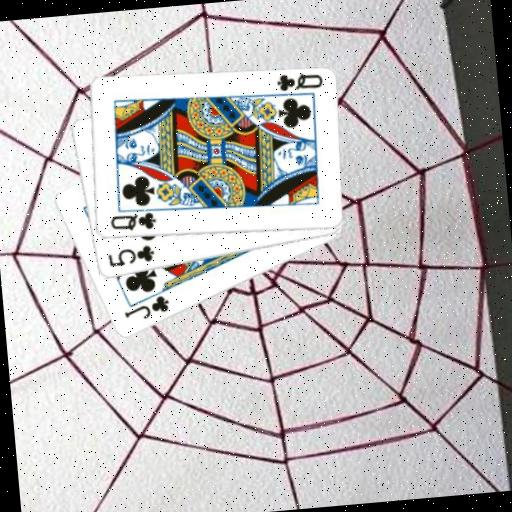5C: (104, 242, 156, 269)
JC: (120, 293, 172, 324)
QC: (107, 209, 159, 235), (273, 68, 325, 94)
